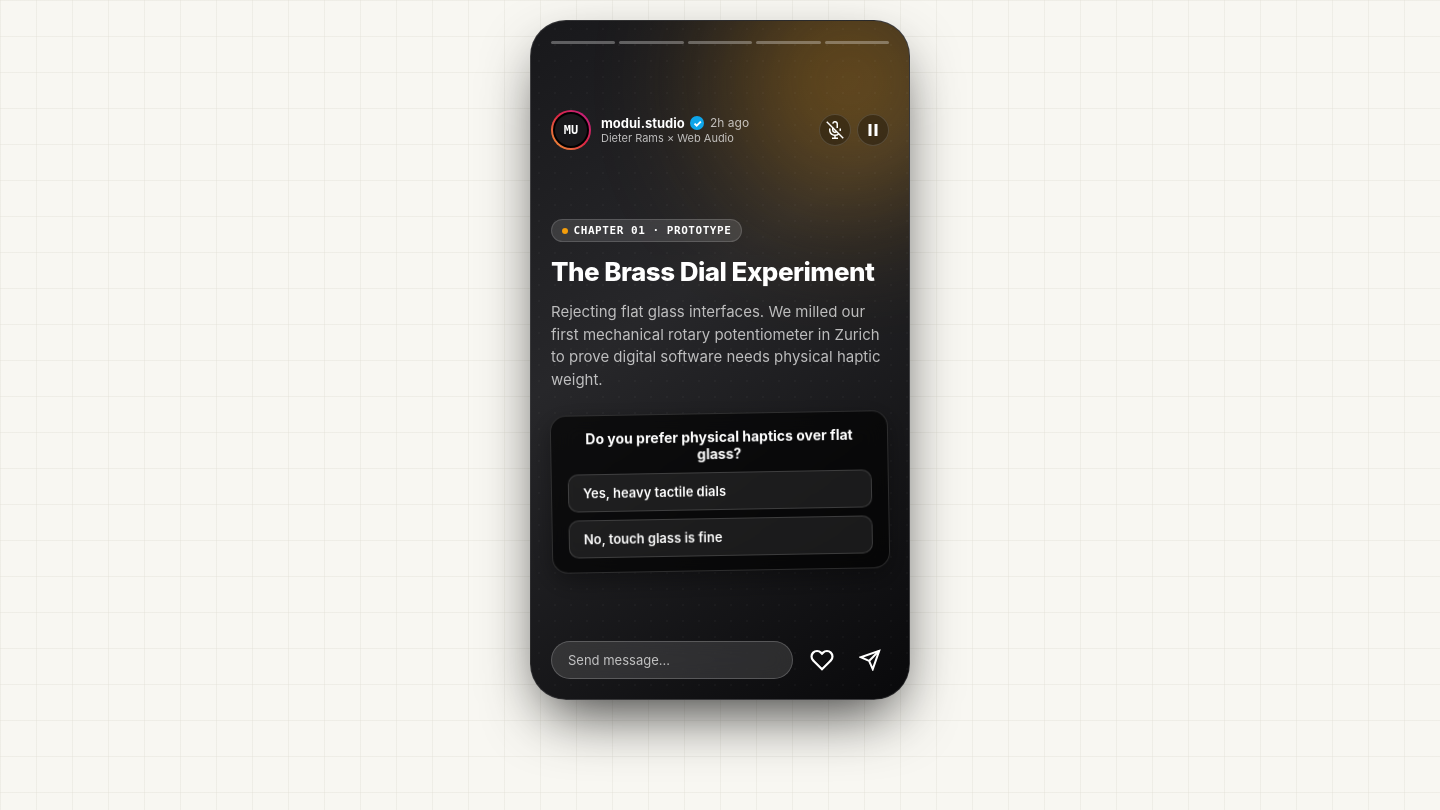
Scenario: StoryTimeline component › handles interactive poll voting and reveals percentages
Check: the text "Yes, heavy tactile dials" is shown, box x1=583 y1=483 x2=726 y2=502
Click the button "Yes, heavy tactile dials": [720, 491] box x1=568 y1=470 x2=872 y2=513
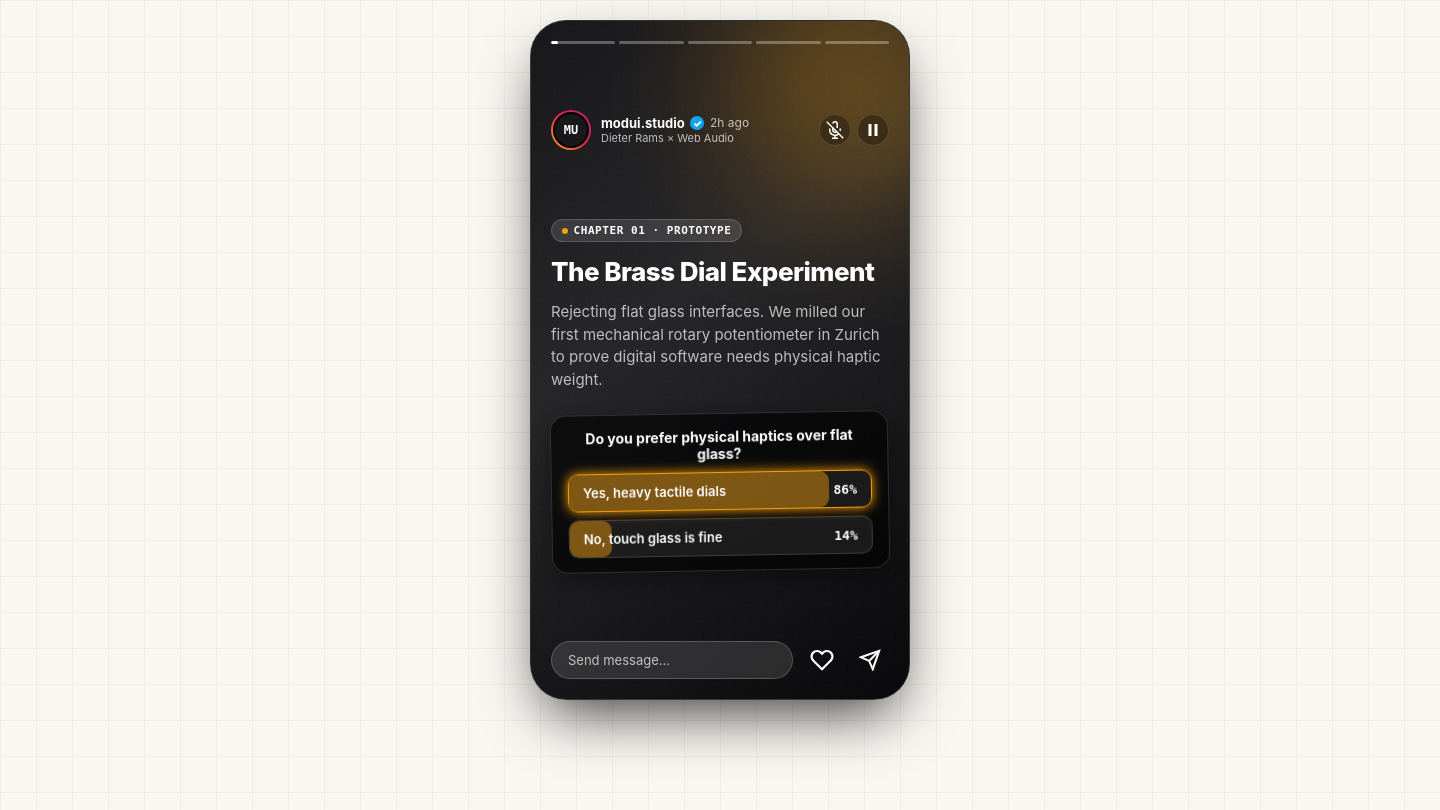
Check: the text "86%" is shown 2 times, box x1=833 y1=482 x2=857 y2=497; x1=834 y1=528 x2=858 y2=543
